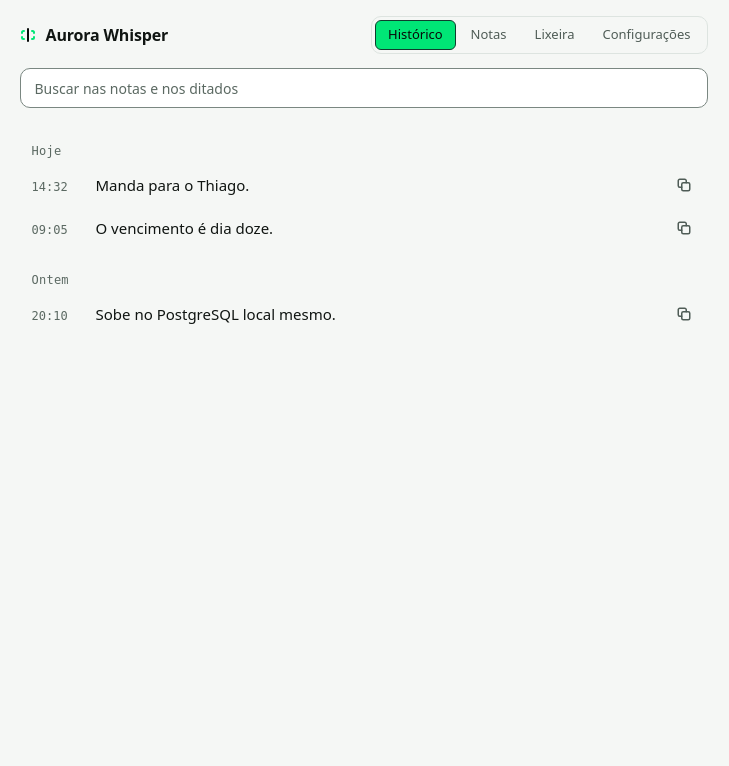
it: painel › editar: mostra o bruto com o que mudou, e salva sobre a versão lida
This screenshot has width=729, height=766.
Click the button "14:32 Manda para o Thiago." at (50, 187), box [20,164,708,206]
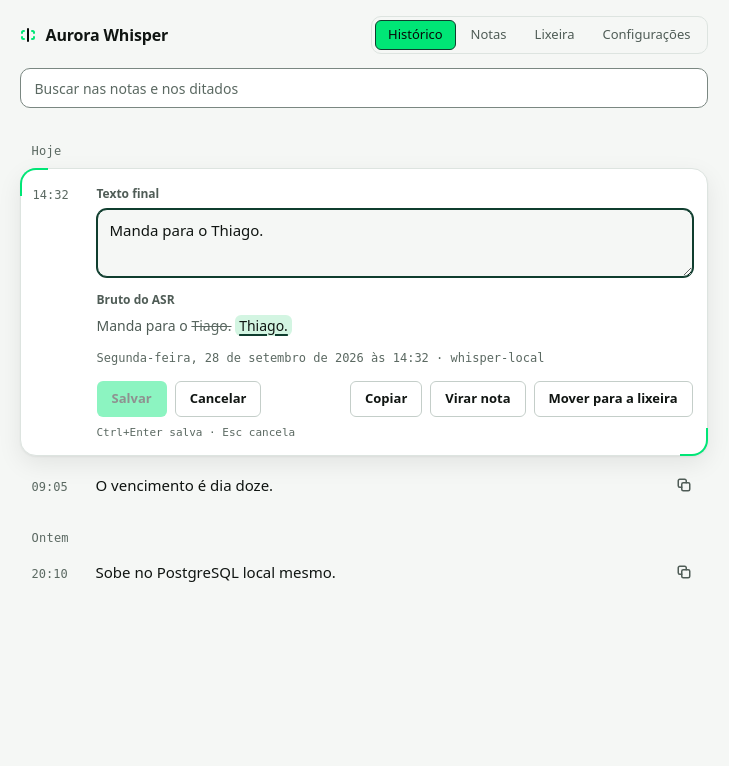
Expected: the text "Thiago." is shown, [235,314,292,336]
Now the text box labelled "Texto final" holds "Manda para o Thiago."
Now the text "Tiago." is shown, box [191,316,232,334]
Replace the text in the text box labelled "Texto final" with "Manda para o Thiago amanhã." at (394, 243), box [96,209,692,276]
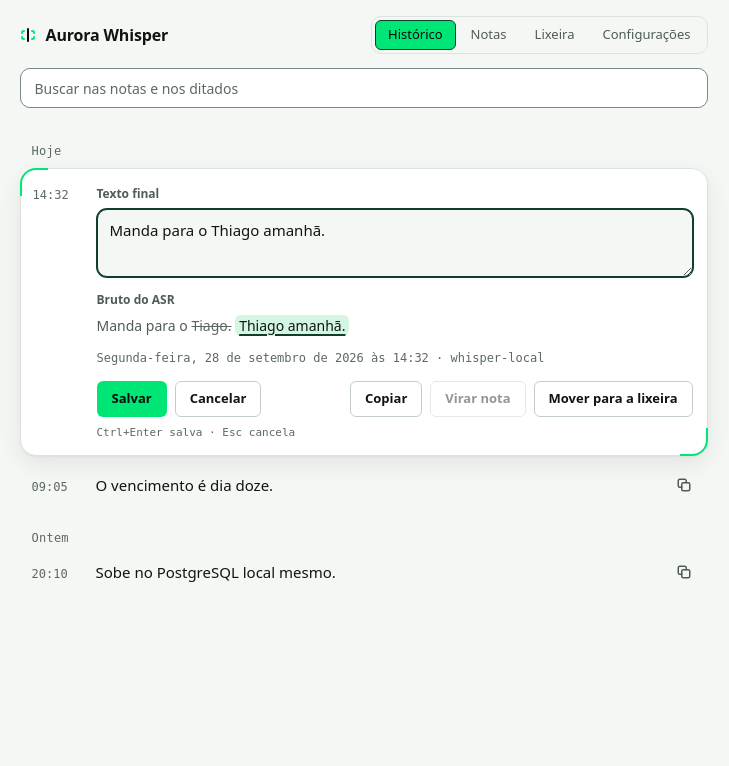
Now the text "Thiago amanhã." is shown, box [235,314,349,336]
Click the button "Salvar" at (132, 399), box [96,381,167,417]
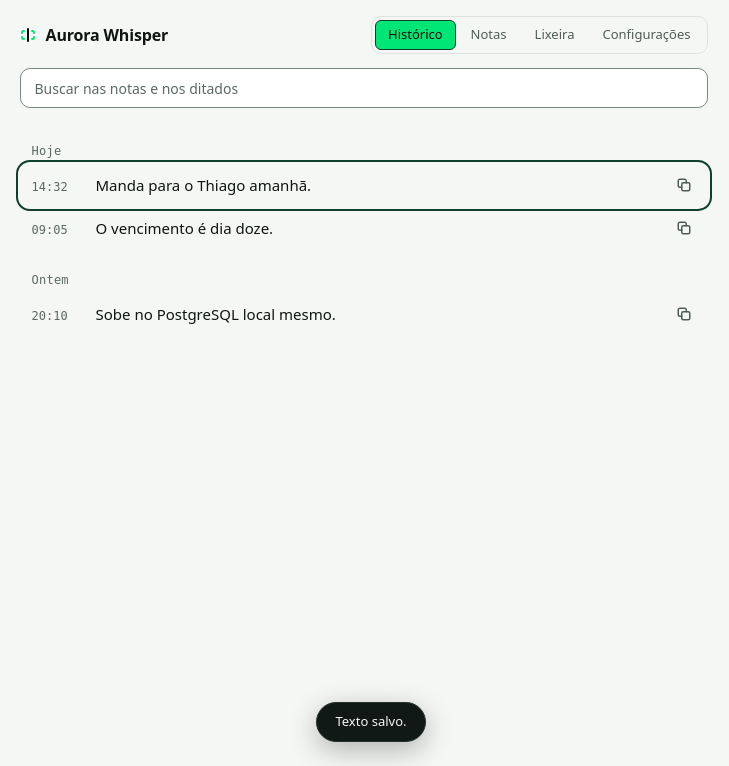
Now the message with class "aviso-regiao" reads "Texto salvo.", box [336,712,406,730]
